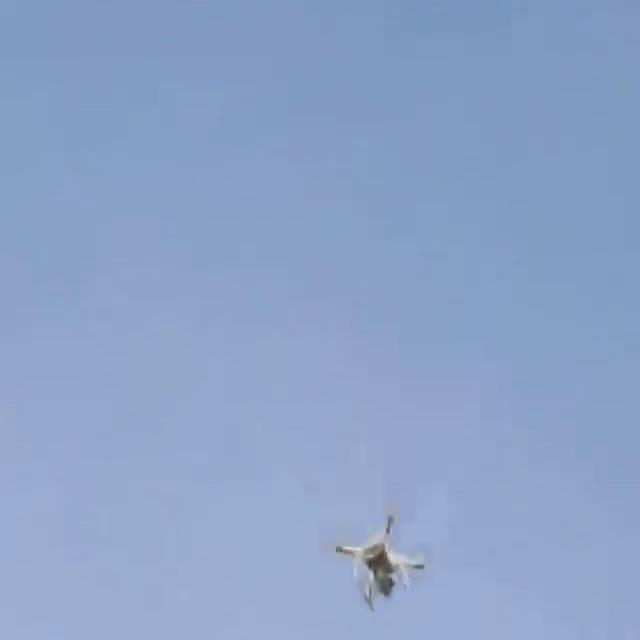drone: (314, 499, 436, 616)
